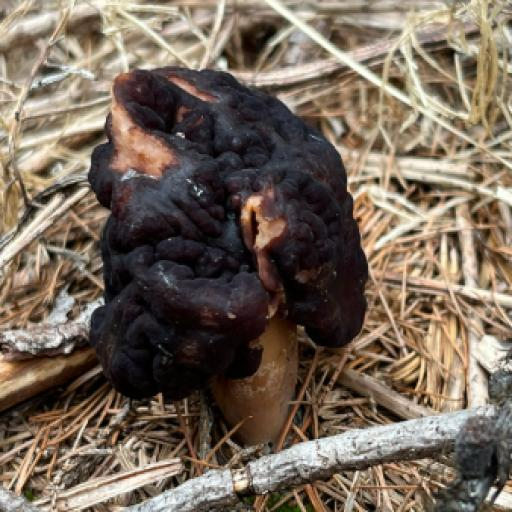mushroom: (88, 59, 374, 413)
